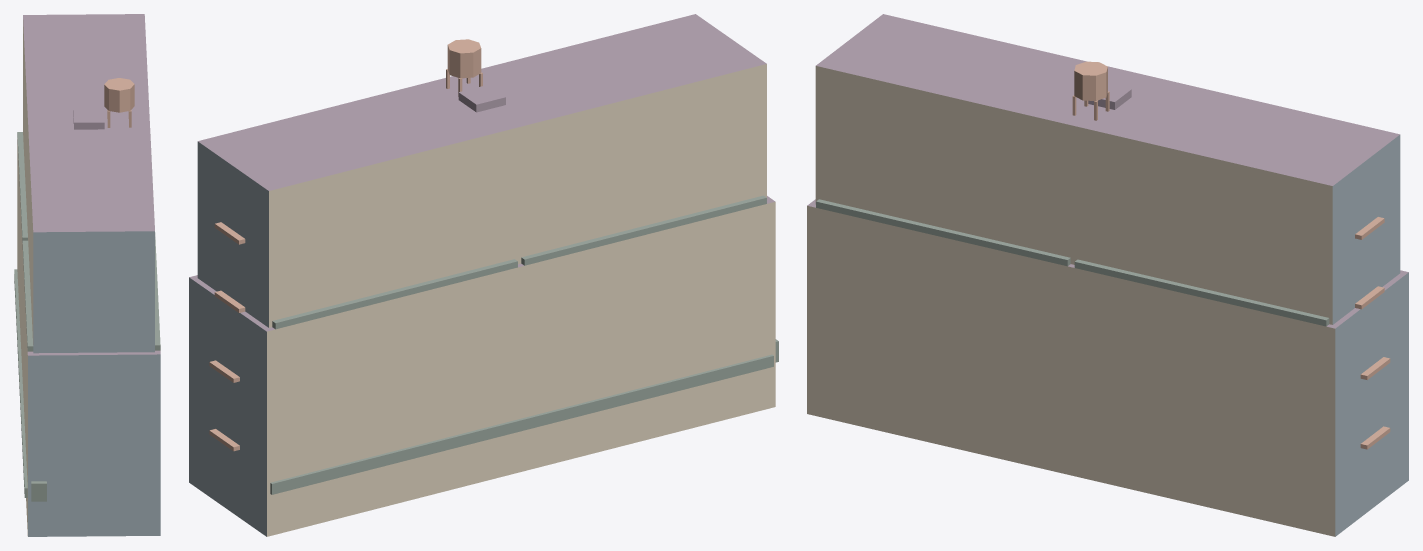
File: doitt-502491__lod_1.glb
3 renders of one model, left to right at view 1: azimuth 30°, elevation 25°; view 2: azimuth 150°, elevation 25°; view 3: azimuth 270°, elevation 25°, orthographic. The views are drawn at different scales.
Bounding box in the file's own units: 21.53 × 21.84 × 30.43.
